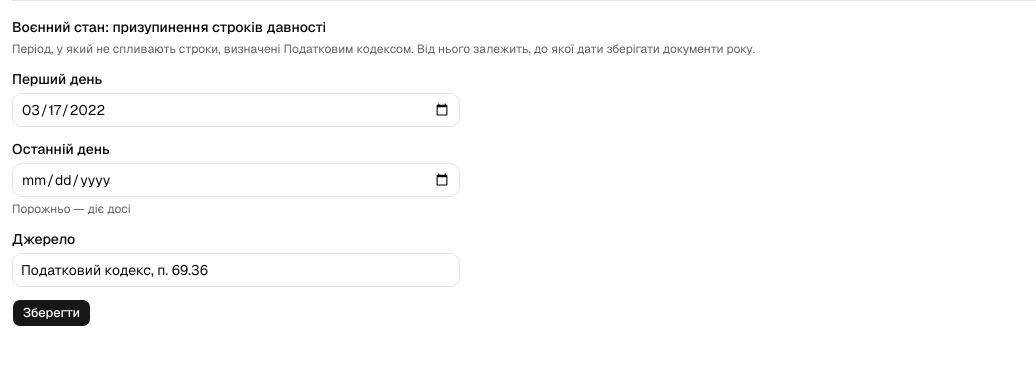
it: LimitationSuspensionSection › shows the field error when the end is before the start
Type "2022-01-01" into the date field labelled "Останній день" at {"x": 236, "y": 180}, box [12, 163, 460, 197]
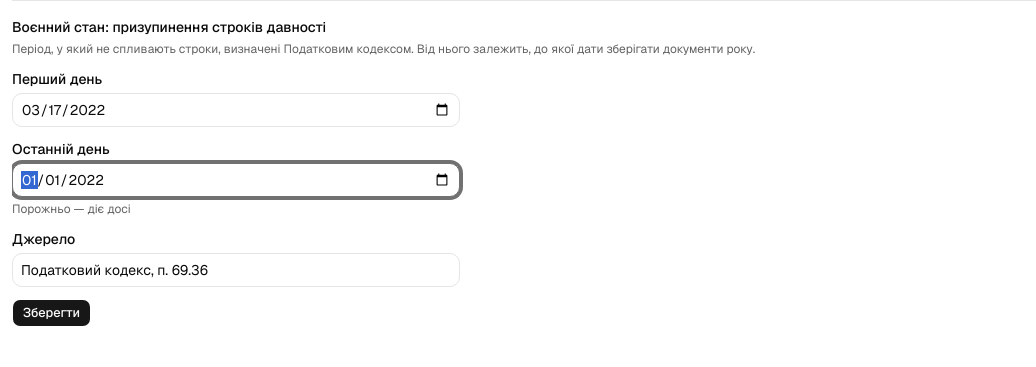
Click the button "Зберегти" at {"x": 52, "y": 313}, box [12, 299, 91, 327]
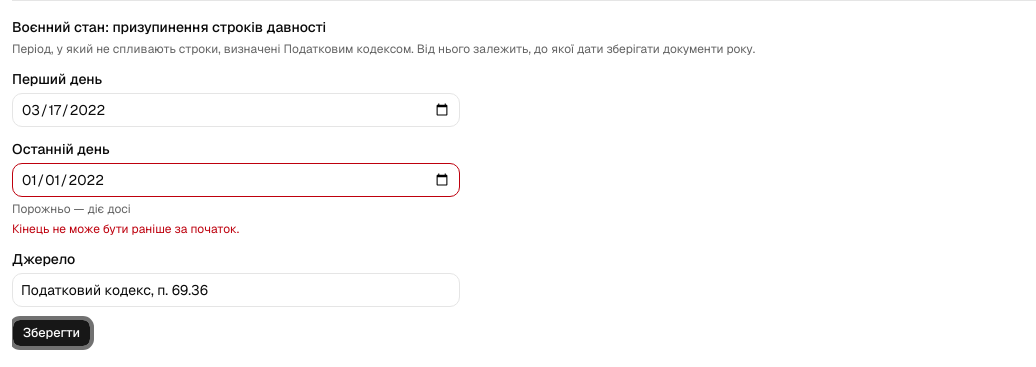
Check: the text "Кінець не може бути раніше за початок." is shown, box [12, 221, 239, 237]
